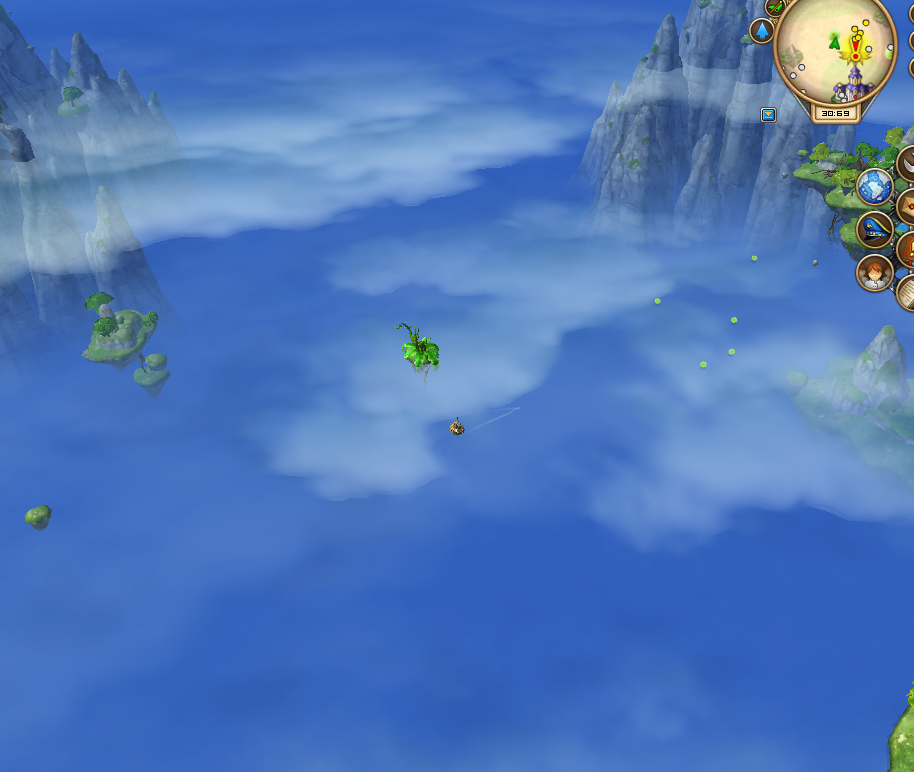dandelion-empty: (391, 318, 442, 381)
fluff: (651, 294, 663, 308), (697, 357, 708, 371), (728, 313, 739, 323), (727, 346, 737, 357), (749, 254, 759, 263)
